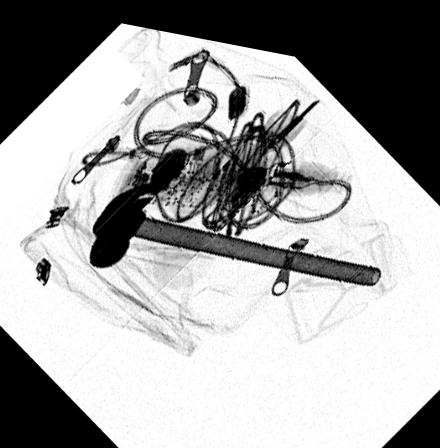Hammer: (87, 174, 384, 271)
